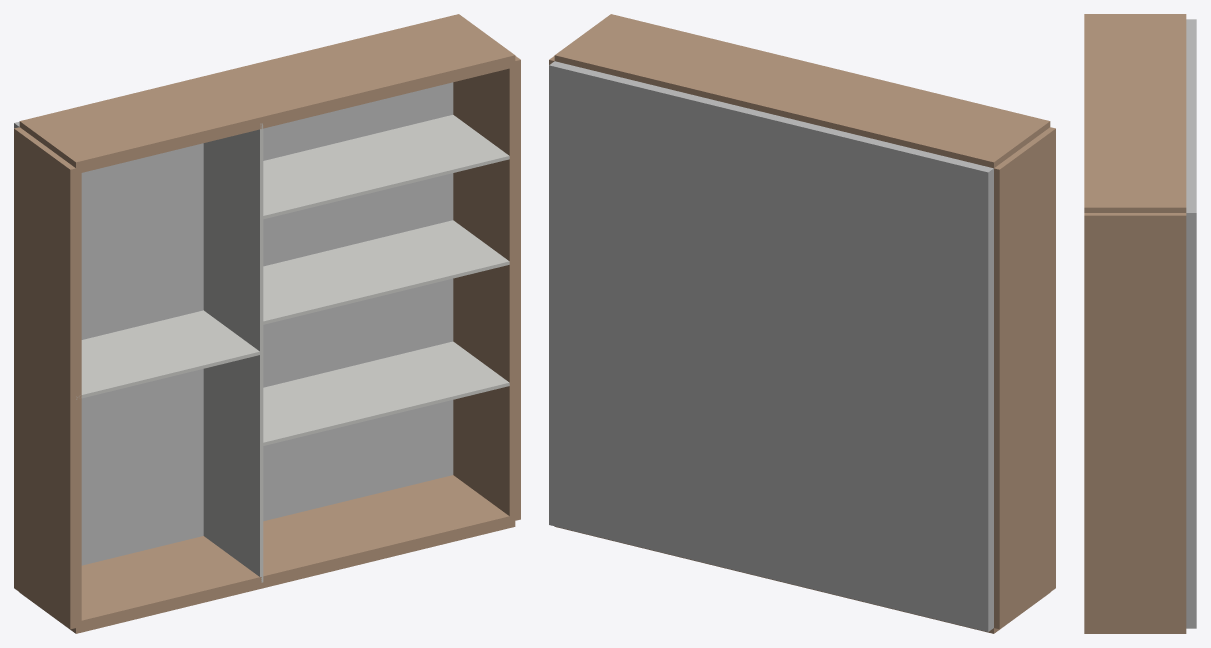
The picture shows the model from 3 angles, left to right: view 1: azimuth 30°, elevation 25°; view 2: azimuth 150°, elevation 25°; view 3: azimuth 270°, elevation 25°; orthographic projection. The views are drawn at different scales.
Parts seen in each view (by area): view 1: floor_slab, wall_3, wall_2, wall_0, wall_1, wall_8, wall_6, wall_10, wall_4, wall_5, wall_9, wall_11 (+1 smaller); view 2: floor_slab, wall_3, wall_2; view 3: wall_1, wall_2, floor_slab, wall_0.
Boxes of the visible parts, bbox=[...] form: floor_slab: bbox=[14, 82, 453, 565]; wall_3: bbox=[14, 127, 81, 629]; wall_2: bbox=[19, 14, 515, 174]; wall_0: bbox=[19, 475, 515, 633]; wall_1: bbox=[453, 56, 520, 521]; wall_8: bbox=[261, 220, 509, 324]; wall_6: bbox=[261, 115, 509, 219]; wall_10: bbox=[261, 341, 509, 445]; wall_4: bbox=[203, 352, 263, 582]; wall_5: bbox=[76, 310, 261, 399]; wall_9: bbox=[203, 177, 263, 323]; wall_11: bbox=[203, 283, 263, 444]; floor_slab: bbox=[549, 61, 993, 631]; wall_3: bbox=[994, 127, 1055, 629]; wall_2: bbox=[554, 14, 1050, 168]; wall_1: bbox=[1084, 213, 1186, 630]; wall_2: bbox=[1084, 14, 1186, 212]; floor_slab: bbox=[1186, 19, 1196, 628]; wall_0: bbox=[1084, 631, 1186, 633].
Size of the model in its own units: 13.85 by 13.85 by 3.3.
